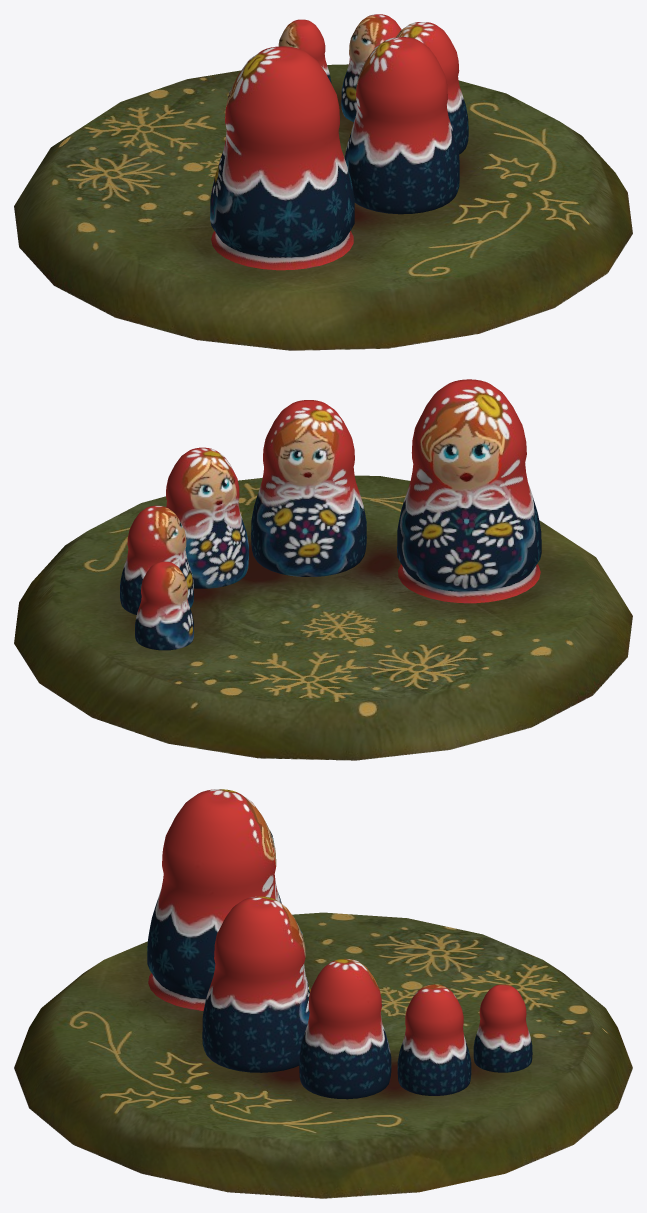
Rendered from nesting_dolls.glb.
3 views of the same model, one above another, from view 1: azimuth 30°, elevation 25°; view 2: azimuth 150°, elevation 25°; view 3: azimuth 270°, elevation 25° (orthographic).
Parts seen in each view (by area): view 1: Russian_Dolls; view 2: Russian_Dolls; view 3: Russian_Dolls.
Boxes of the visible parts, x1,y1,x2,y2 form: Russian_Dolls: (14, 14, 632, 350); Russian_Dolls: (14, 379, 632, 760); Russian_Dolls: (14, 789, 632, 1198).
Bounding box in the file's own units: 2 × 0.8044 × 2.
1 material, 1 textured.
